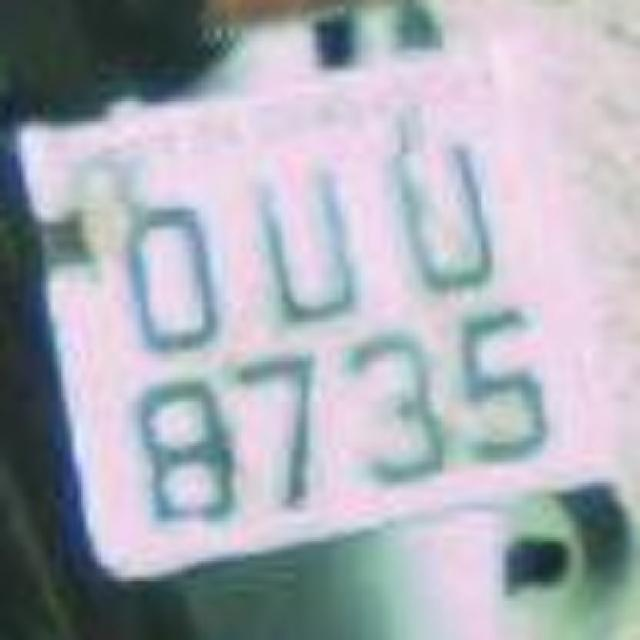3: (304, 304, 476, 508)
5: (428, 284, 572, 484)
7: (216, 336, 352, 516)
8: (108, 340, 260, 548)
O: (108, 180, 240, 360)
U: (216, 132, 404, 340), (360, 100, 532, 308)
